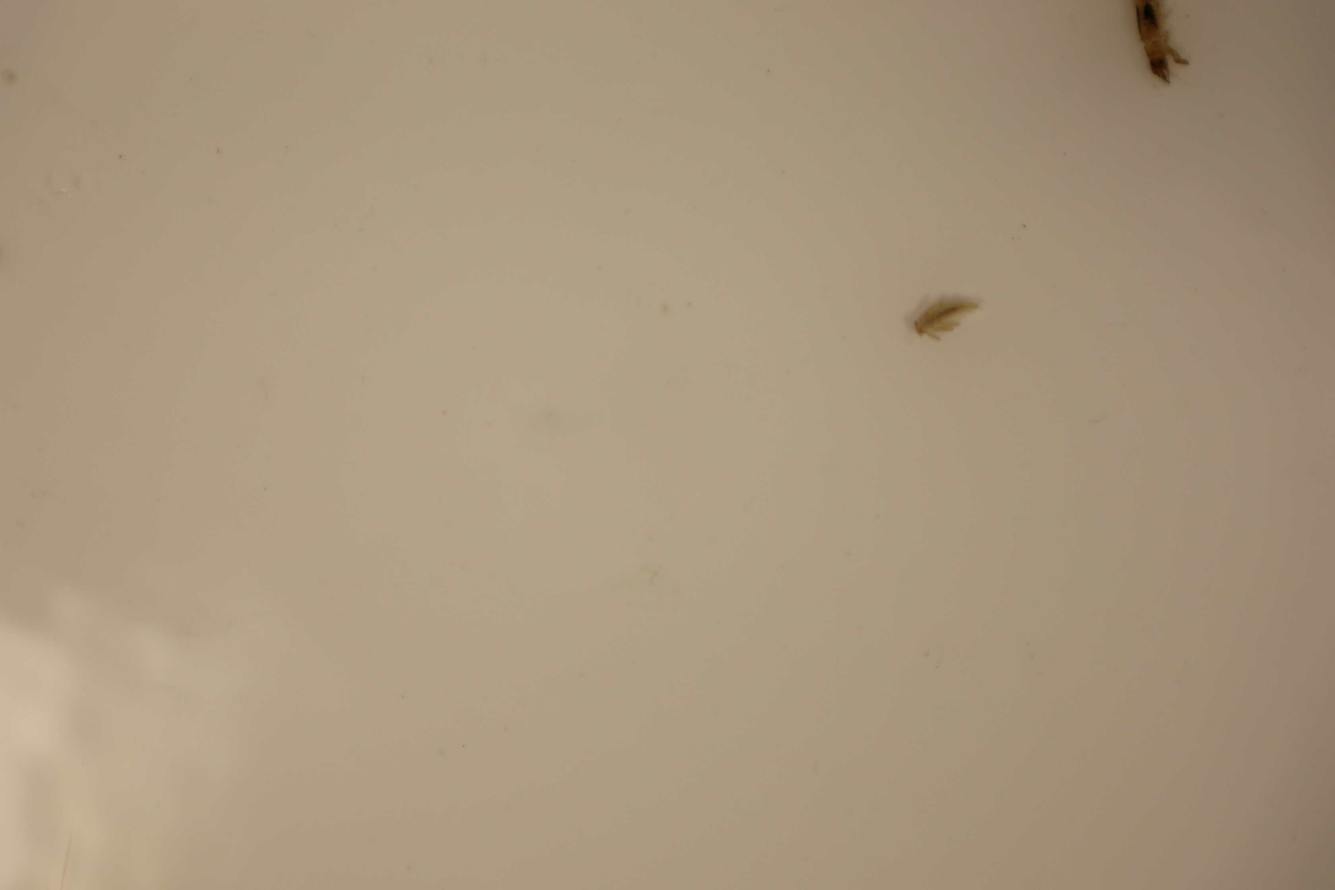Mayfly: (1132, 0, 1193, 93), (908, 288, 984, 347)
